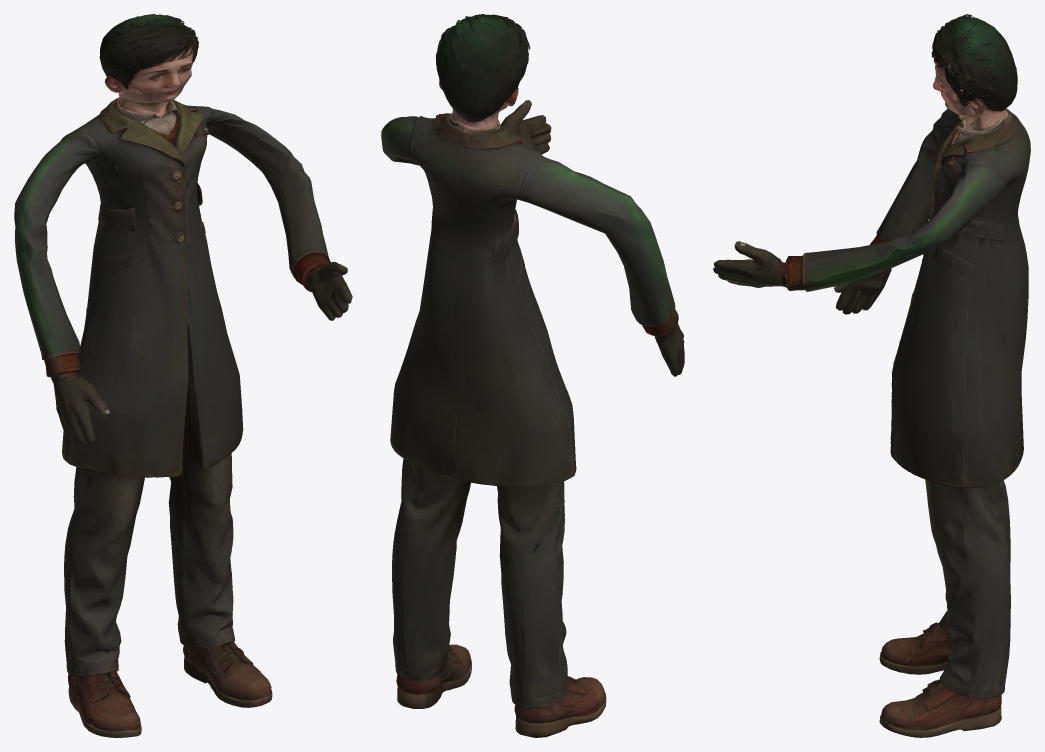
Rendered from recovery-c-posed.glb.
3 renders of one model, left to right at view 1: azimuth 30°, elevation 25°; view 2: azimuth 150°, elevation 25°; view 3: azimuth 270°, elevation 25°, orthographic. The views are drawn at different scales.
Visible parts, largest first — view 1: hunyuan-posed-character; view 2: hunyuan-posed-character; view 3: hunyuan-posed-character.
Part boxes in pixels (x1,y1,x2,y2): hunyuan-posed-character: [14, 14, 352, 737]; hunyuan-posed-character: [381, 14, 684, 737]; hunyuan-posed-character: [713, 14, 1030, 737].
Bounding box in the file's own units: 0.4511 × 1.08 × 0.4626.
1 material, 1 textured.
